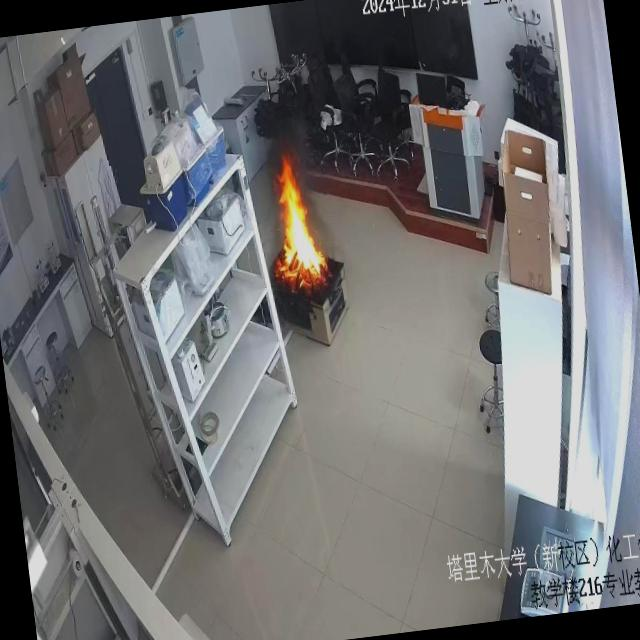fire: (252, 140, 360, 340)
